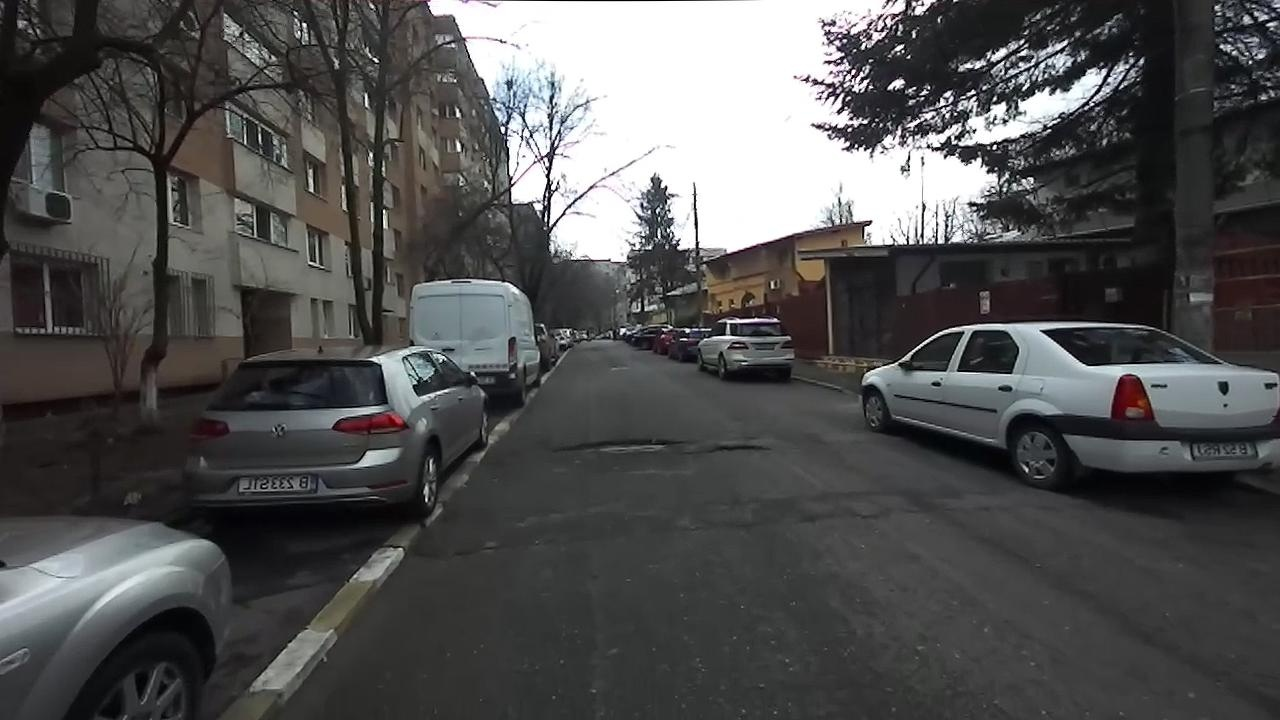pothole: (549, 433, 689, 456), (417, 540, 502, 565), (700, 438, 773, 454)
